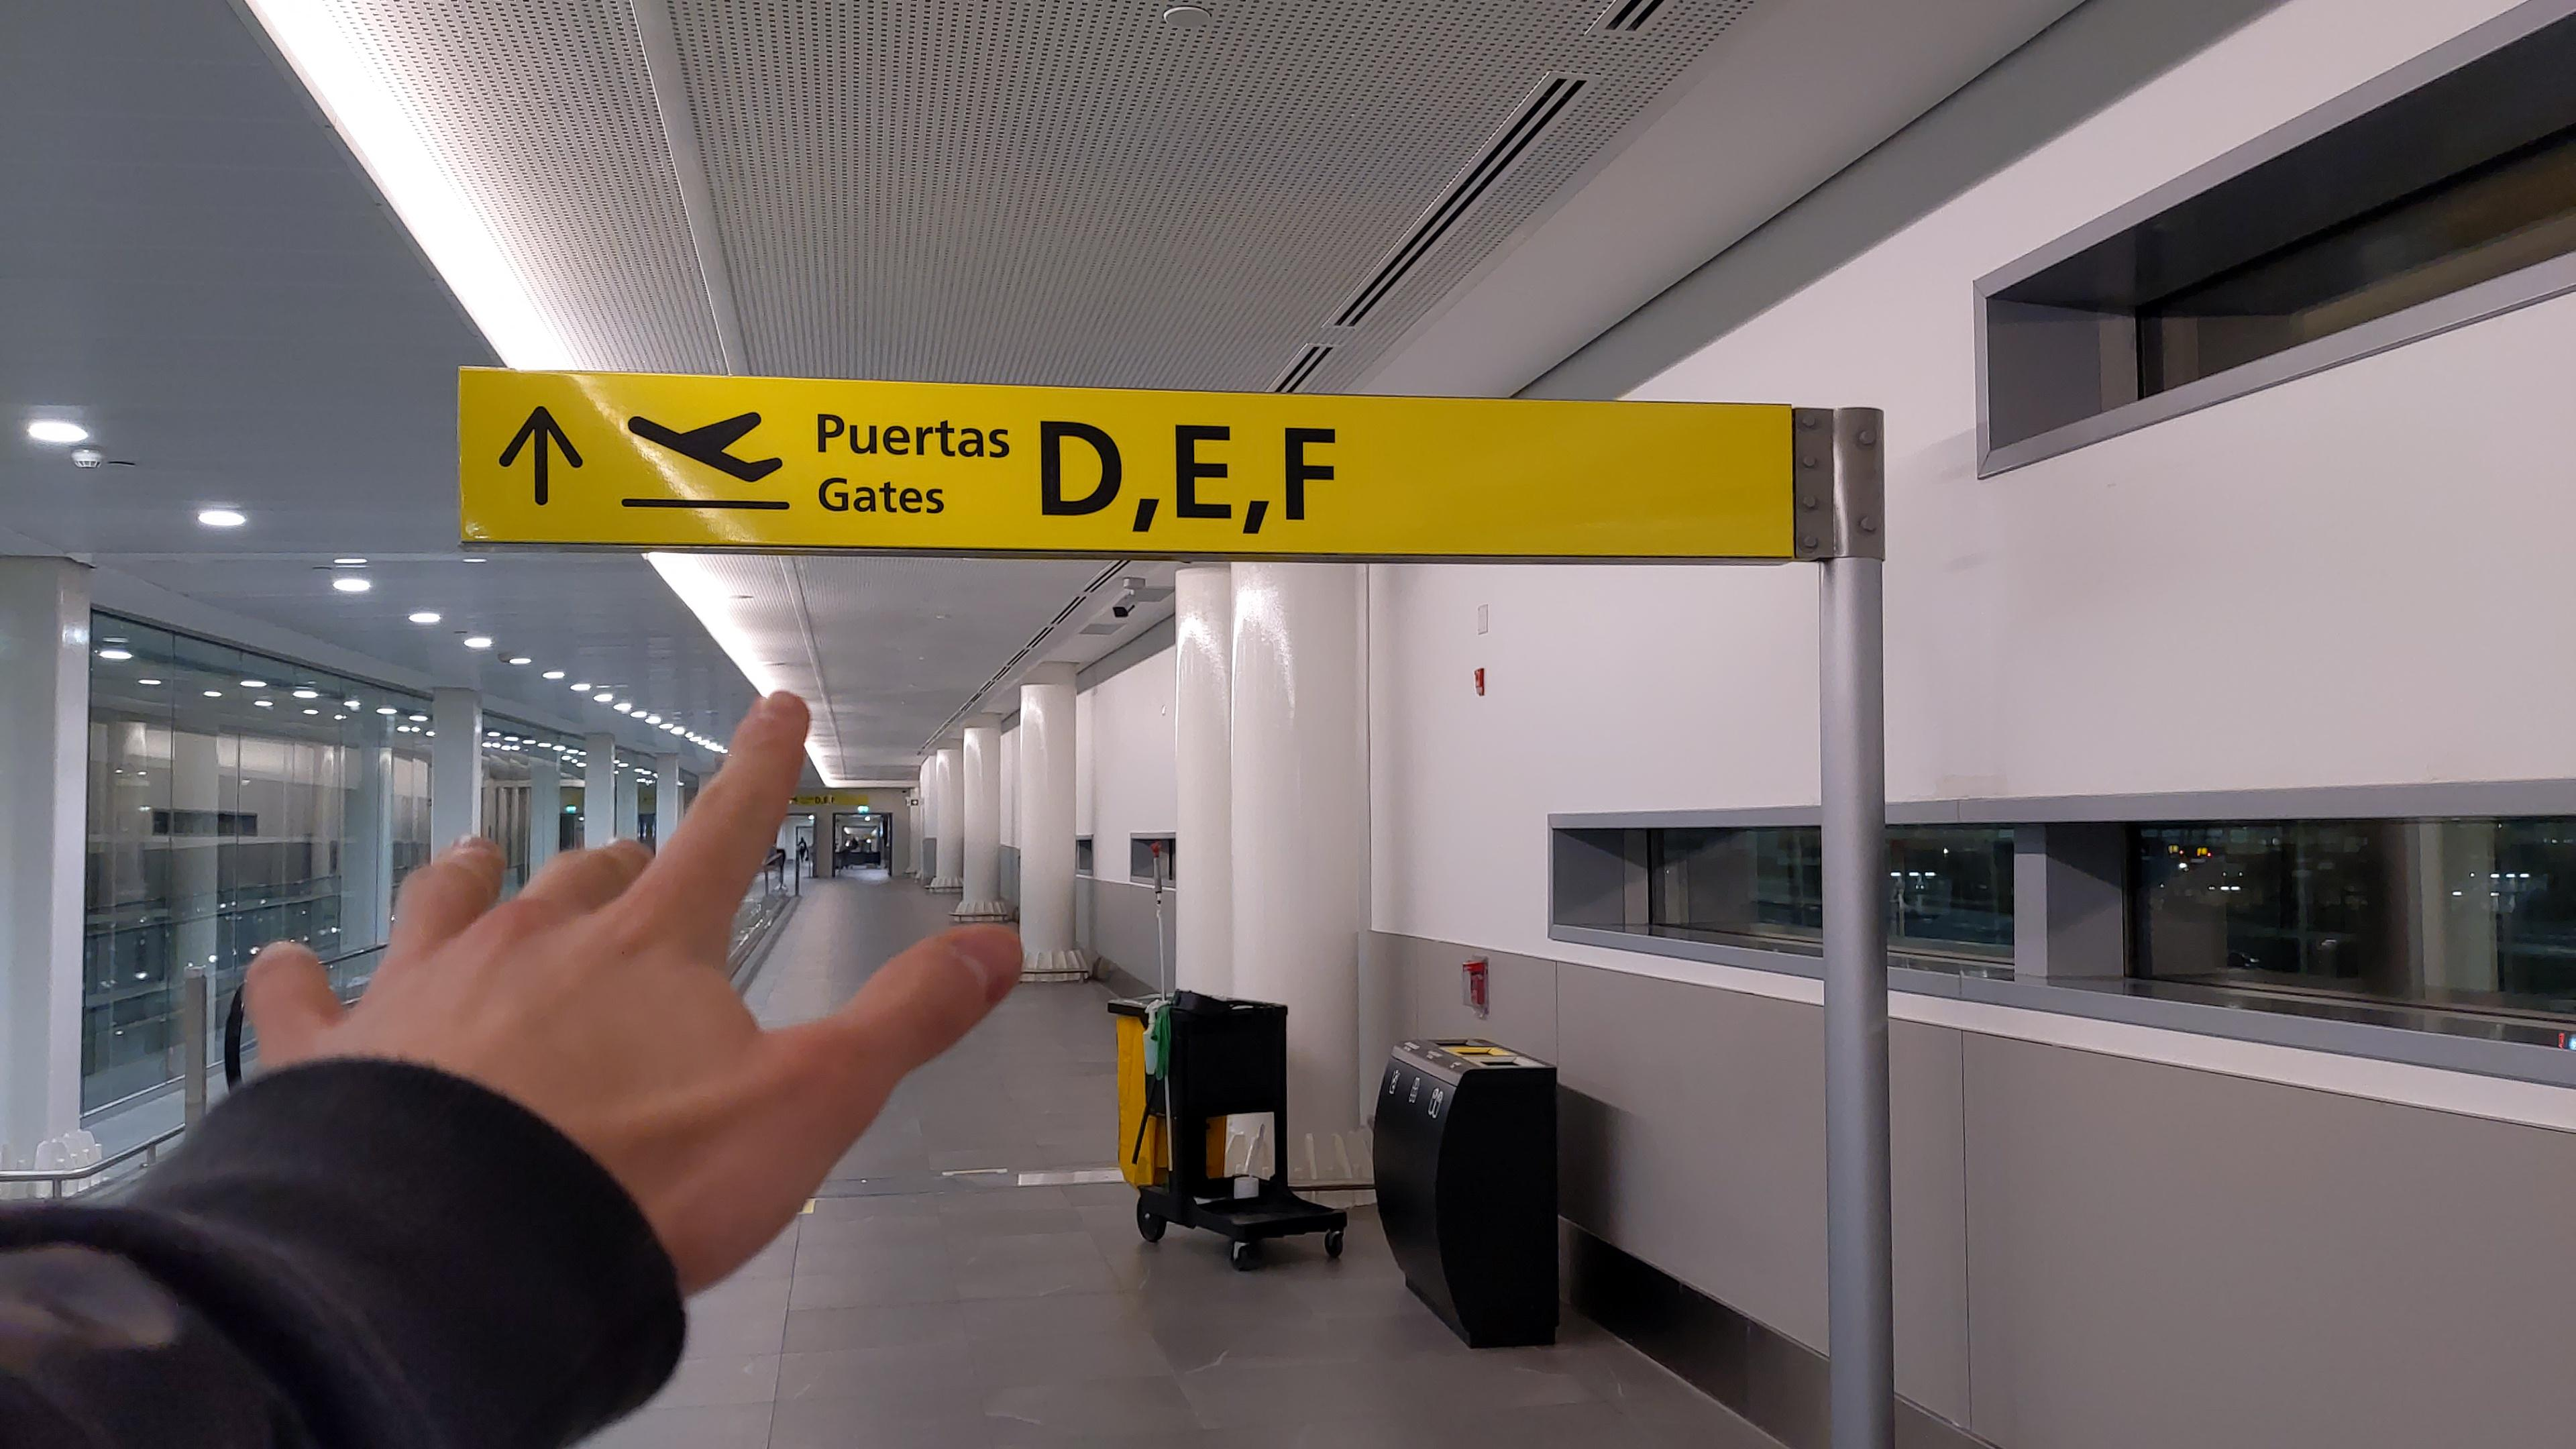airplane symbol: (626, 410, 787, 487)
thin up arrow: (494, 402, 591, 511)
